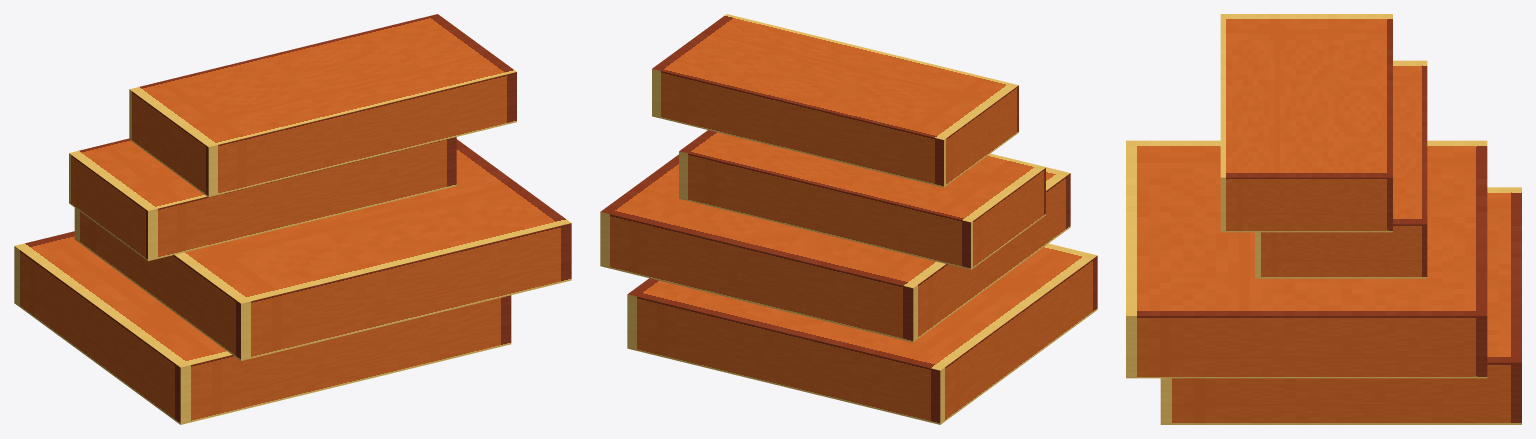
The model's file is bench_leggings_0_hot.obj.
The picture shows the model from 3 angles, left to right: view 1: azimuth 30°, elevation 25°; view 2: azimuth 150°, elevation 25°; view 3: azimuth 270°, elevation 25°; orthographic projection. The views are drawn at different scales.
Visible parts, largest first — view 1: geometry; view 2: geometry; view 3: geometry.
Part boxes in pixels (box(x1,y1,x2,y2)): geometry: box(14, 14, 571, 424); geometry: box(600, 14, 1097, 424); geometry: box(1126, 14, 1521, 424).
Bounding box in the file's own units: 0.4024 × 0.25 × 0.3382.
